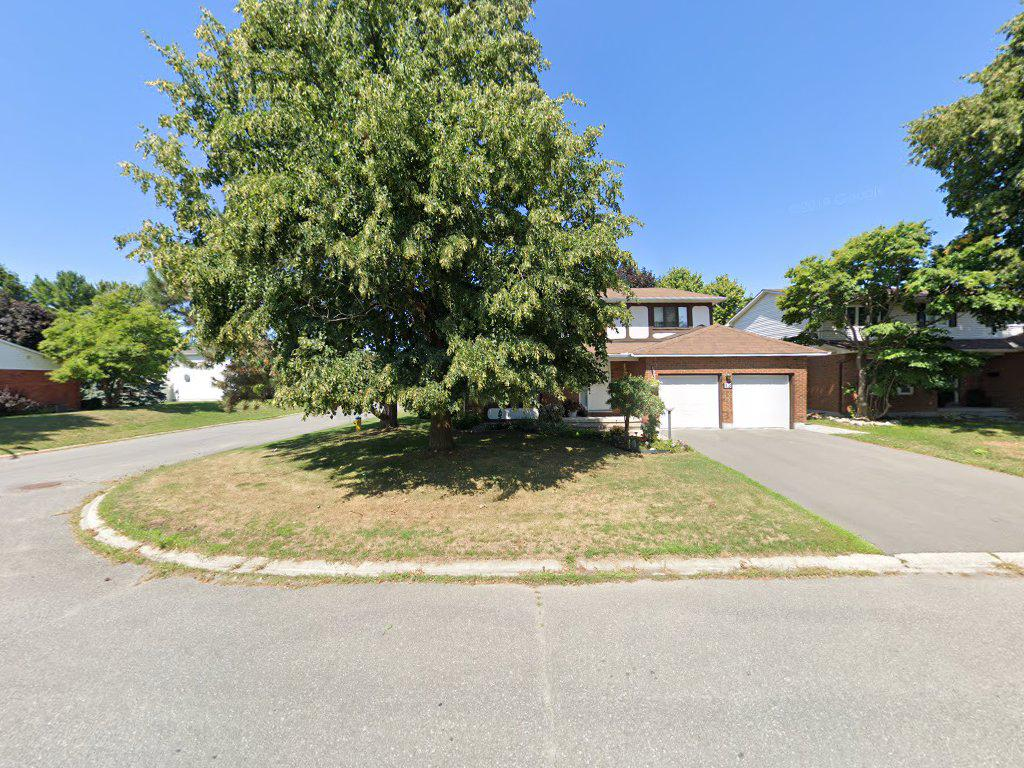trunk: (426, 403, 456, 454)
